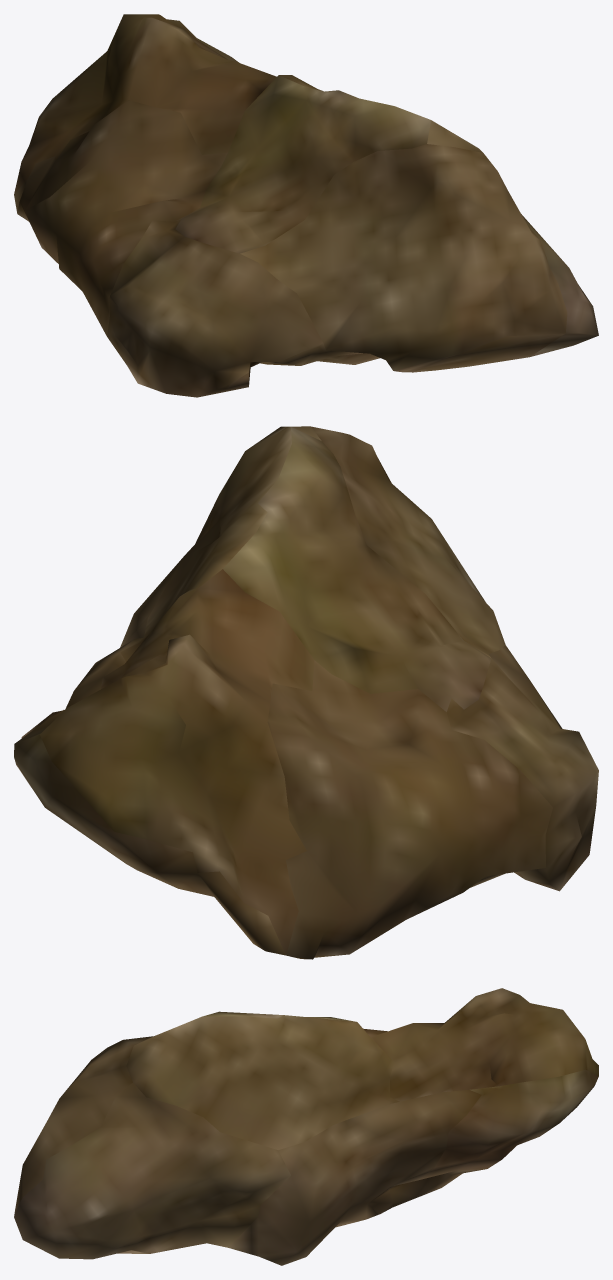
The model's file is rocks-low.glb.
3 renders of one model, top to bottom at view 1: azimuth 30°, elevation 25°; view 2: azimuth 150°, elevation 25°; view 3: azimuth 270°, elevation 25°, orthographic. The views are drawn at different scales.
Parts seen in each view (by area): view 1: rock_moss_set_01_rock01; view 2: rock_moss_set_01_rock01; view 3: rock_moss_set_01_rock01.
Boxes of the visible parts, x1,y1,x2,y2 form: rock_moss_set_01_rock01: (14,14,598,397); rock_moss_set_01_rock01: (14,426,598,959); rock_moss_set_01_rock01: (14,988,598,1265).
Bounding box in the file's own units: 2.24 × 1.46 × 3.36.
1 material, 1 textured.
